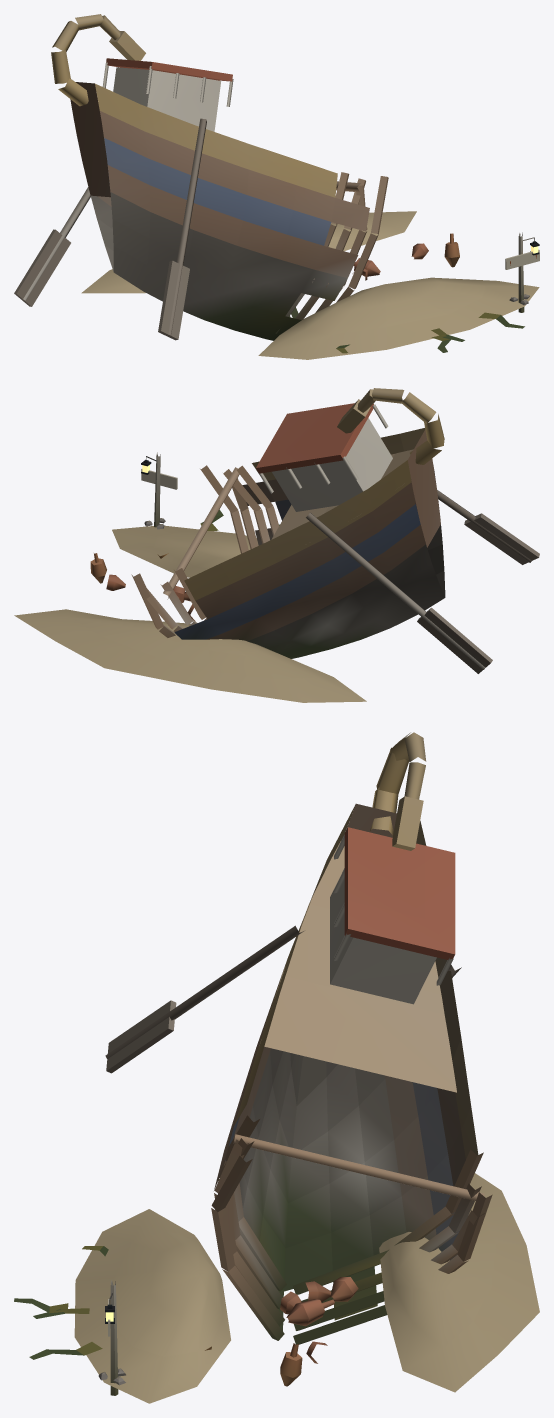
The model's file is wreck_stern_section.glb.
3 renders of one model, top to bottom at view 1: azimuth 30°, elevation 25°; view 2: azimuth 150°, elevation 25°; view 3: azimuth 270°, elevation 25°, orthographic. The views are drawn at different scales.
Parts seen in each view (by area): view 1: hull, epitaph; view 2: hull, epitaph; view 3: hull, epitaph.
Part boxes in pixels (<box>): hull: <box>14,14,539,359</box>; epitaph: <box>505,232,539,312</box>; hull: <box>14,388,539,702</box>; epitaph: <box>141,452,177,529</box>; hull: <box>14,732,539,1403</box>; epitaph: <box>98,1280,125,1395</box>.
Size of the model in its own units: 14.49 by 10.62 by 10.49.
